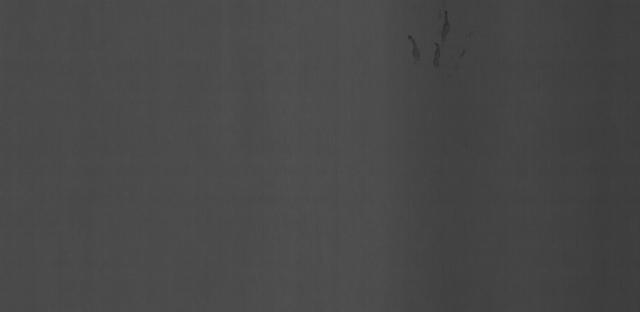water_spot: (392, 11, 469, 79)
